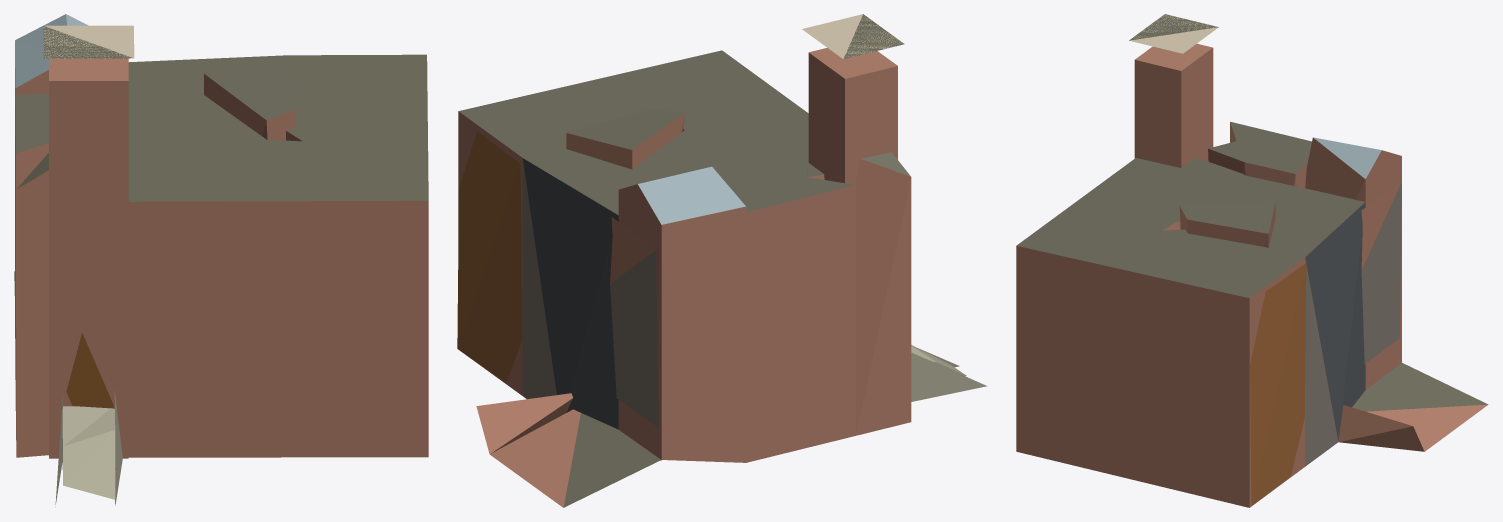
Rendered from de-burcht.lod2.glb.
3 renders of one model, left to right at view 1: azimuth 30°, elevation 25°; view 2: azimuth 150°, elevation 25°; view 3: azimuth 270°, elevation 25°, orthographic. The views are drawn at different scales.
Visible parts, largest first — view 1: lod2; view 2: lod2; view 3: lod2.
Part boxes in pixels (x1,y1,x2,y2): lod2: (14, 14, 428, 506); lod2: (457, 14, 987, 507); lod2: (1016, 14, 1488, 507).
Bounding box in the file's own units: 30.31 × 24.5 × 32.46.
